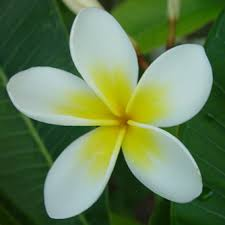frangipani: (6, 5, 213, 219)
